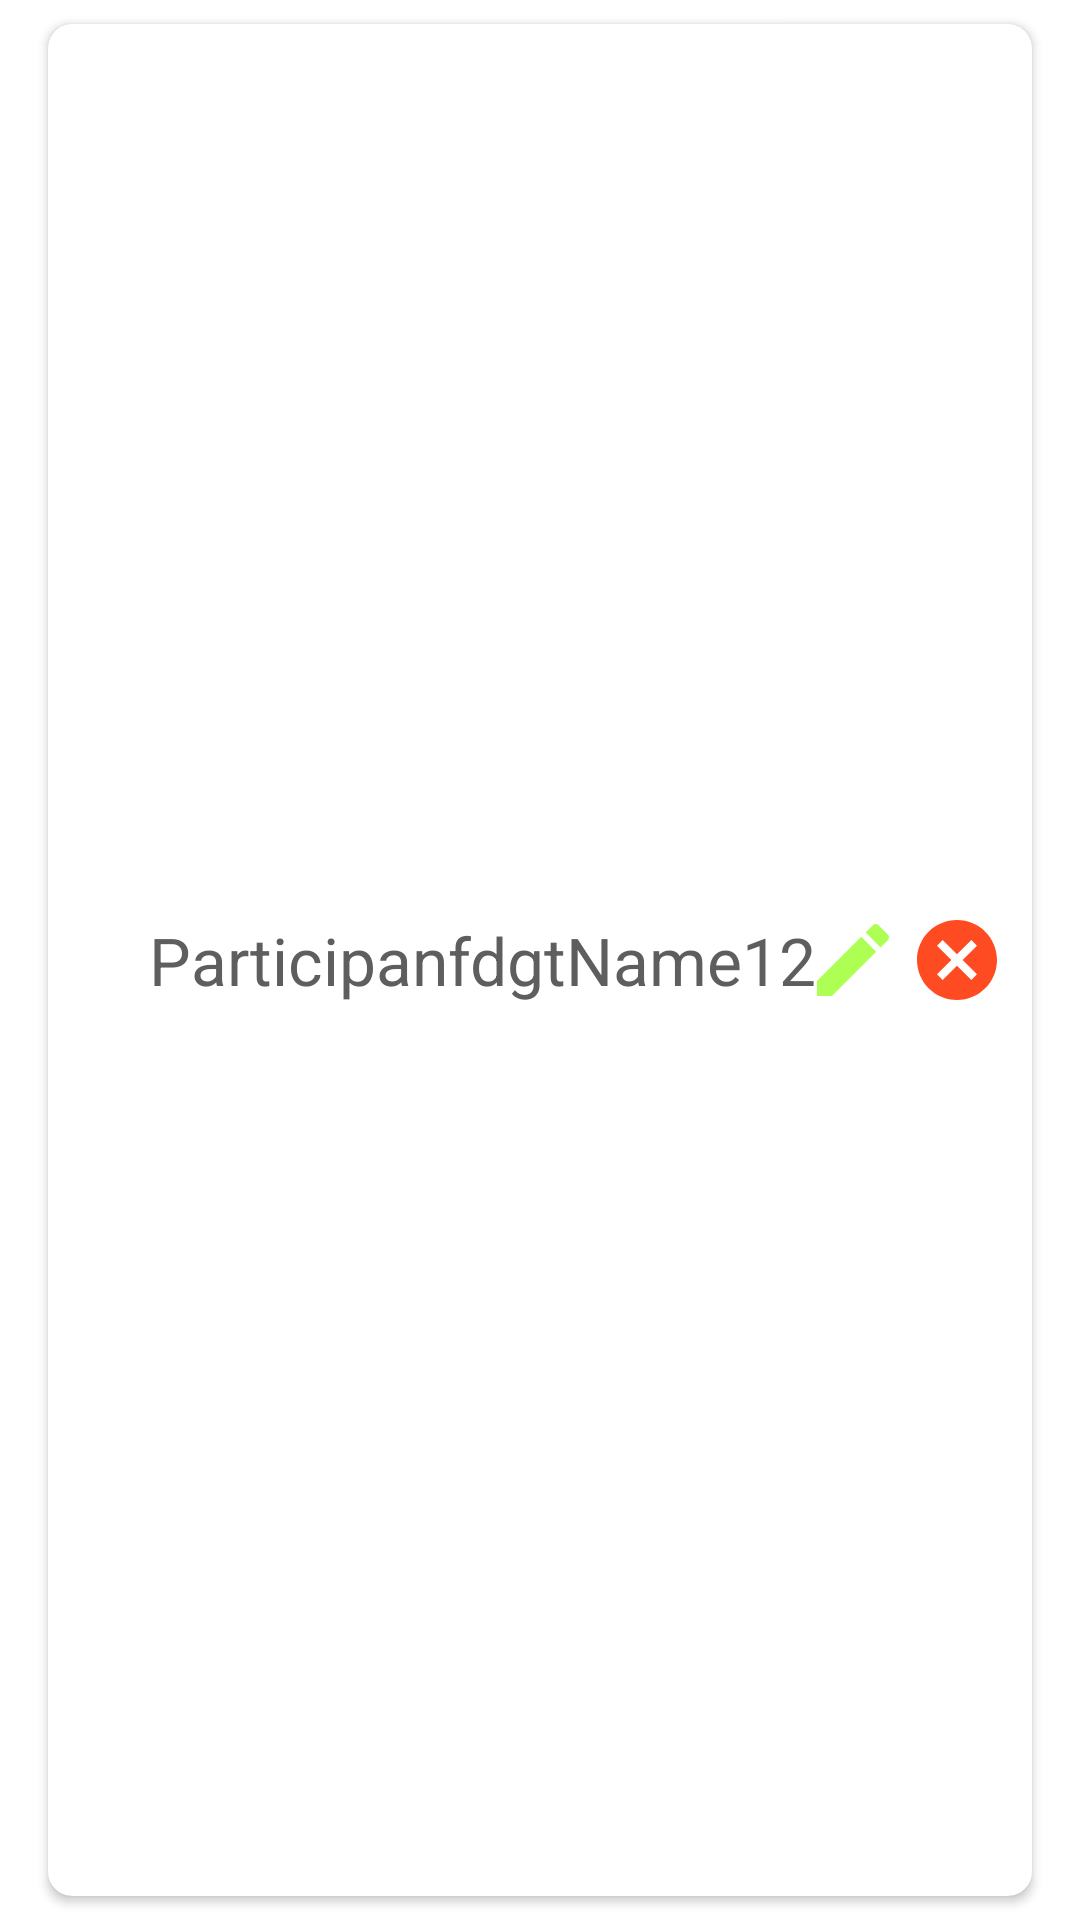

Locate icon controls on the screen. Image size 1080px×1920px, boxes as BBox(x1, y1, x2, y2).
cancel: BBox(917, 920, 997, 1000)
mode edit: BBox(817, 924, 889, 996)
